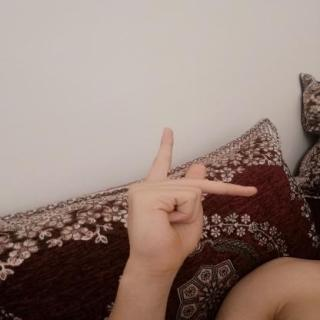DHAA: (112, 119, 268, 275)
